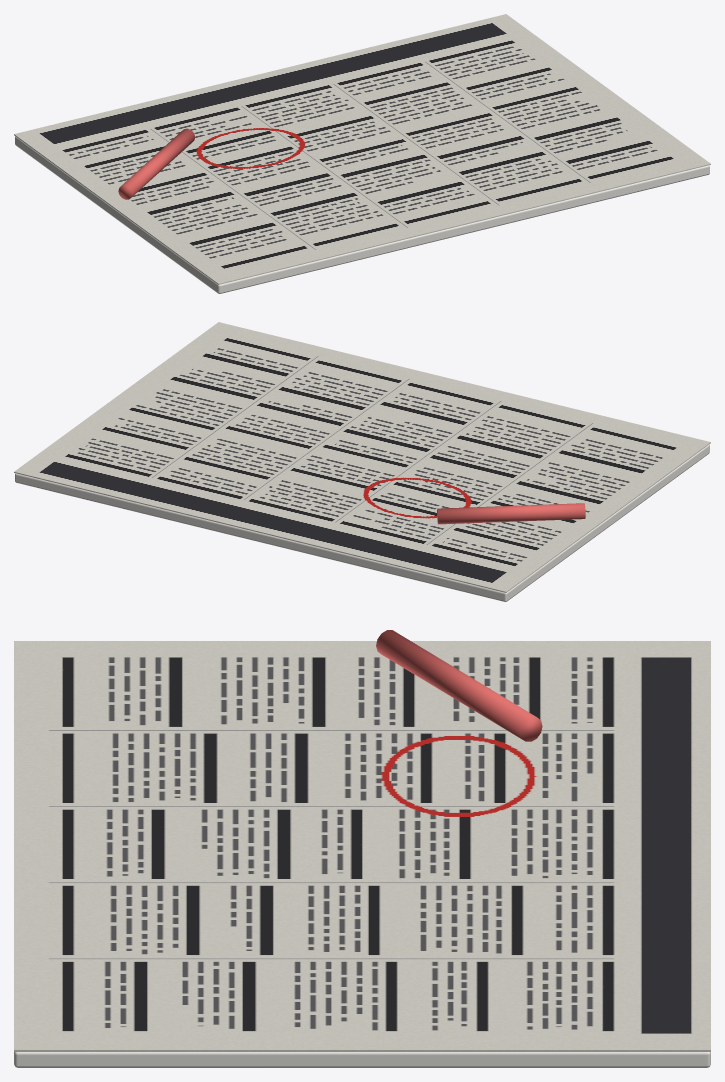
File: escena.casa.avisos_trabajo.fbx
3 views of the same model, one above another, from view 1: azimuth 30°, elevation 25°; view 2: azimuth 150°, elevation 25°; view 3: azimuth 270°, elevation 25° (orthographic). The views are drawn at different scales.
Parts seen in each view (by area): view 1: Avisos, Diario doblado, Plumon; view 2: Avisos, Diario doblado, Plumon; view 3: Avisos, Diario doblado, Plumon.
Boxes of the visible parts, x1,y1,x2,y2 form: Avisos: (14, 14, 710, 284); Diario doblado: (15, 136, 709, 293); Plumon: (118, 128, 195, 199); Avisos: (14, 322, 710, 592); Diario doblado: (15, 444, 709, 601); Plumon: (437, 503, 585, 524); Avisos: (14, 641, 710, 1051); Diario doblado: (14, 1052, 710, 1067); Plumon: (376, 630, 542, 741).
Bounding box in the file's own units: 0.5 × 0.025 × 0.36.
Materials: 3 (1 with a texture image).
